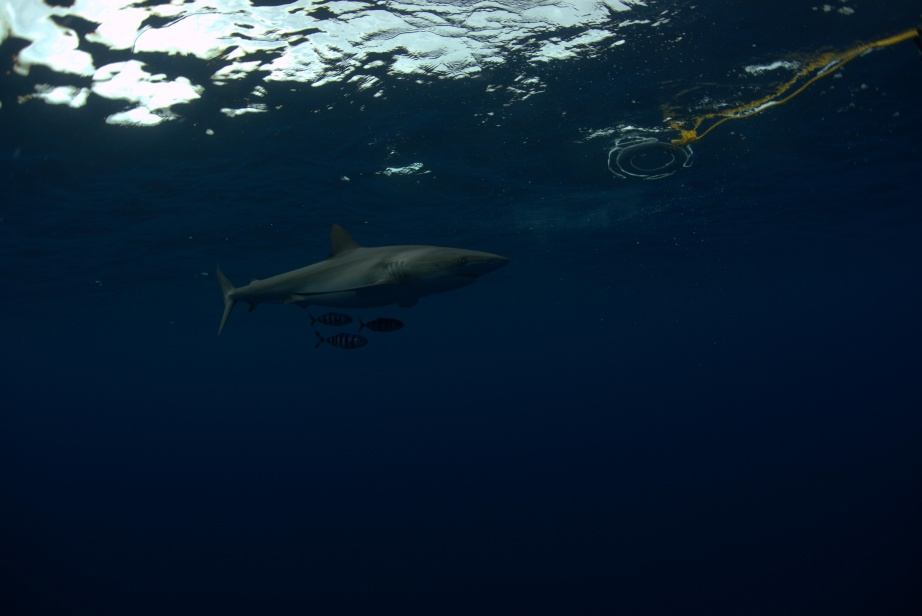Sedoso: (186, 212, 535, 343)
